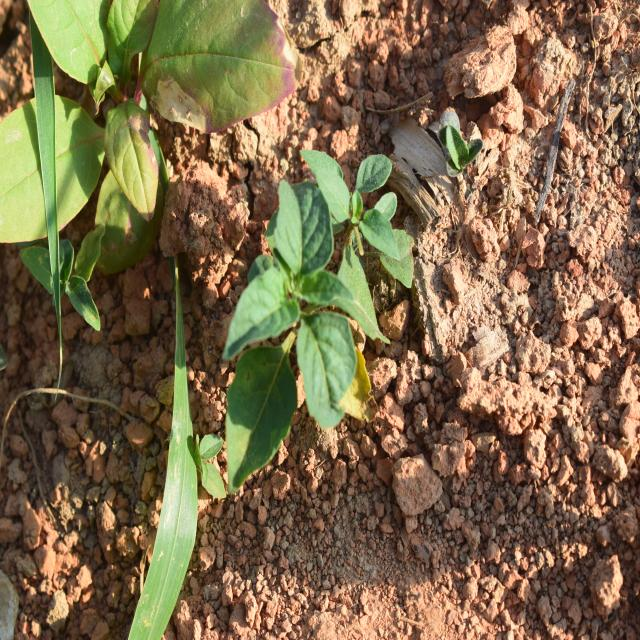Black_nightshade: (214, 180, 394, 434), (316, 136, 436, 284)
